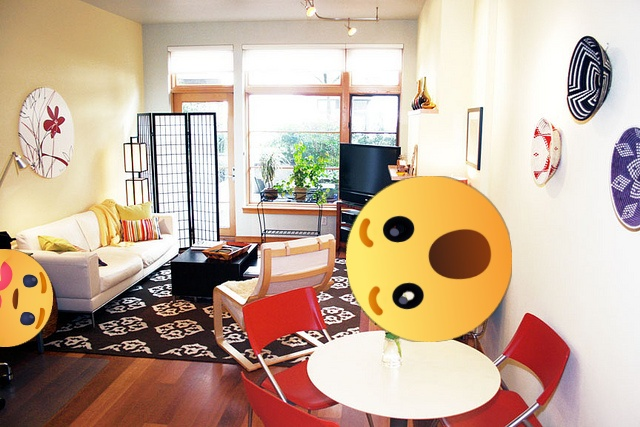care: (0, 249, 53, 347)
wow: (346, 176, 512, 342)
